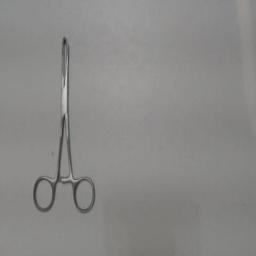Allis Tissue Forceps: (30, 28, 102, 218)
